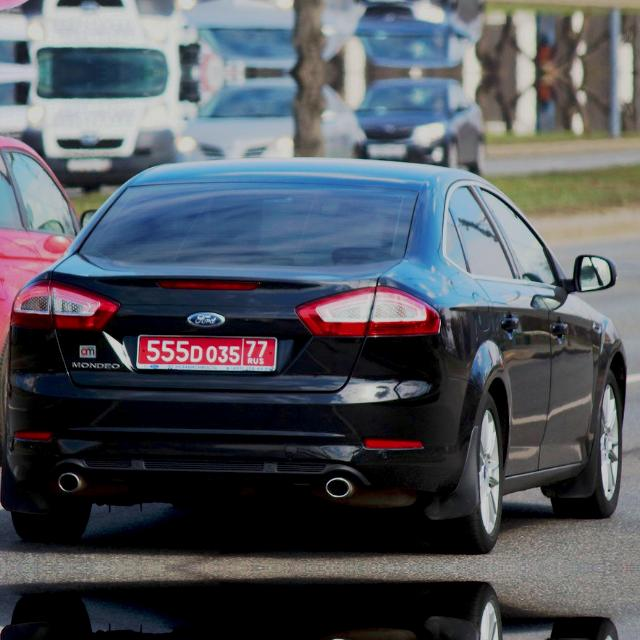diplomatic: (126, 327, 286, 381)
